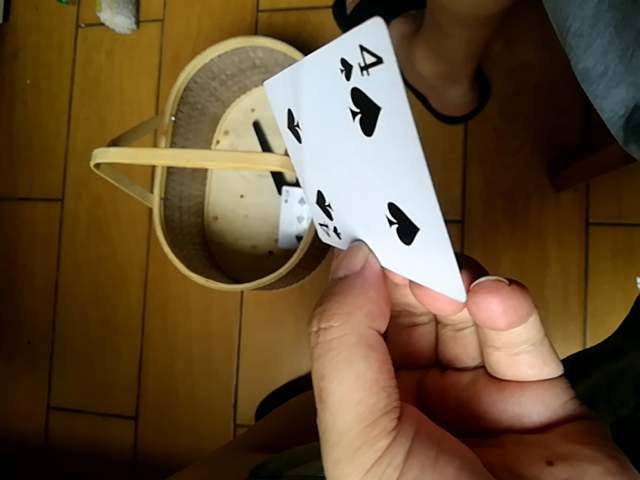ht 4: (261, 21, 461, 308)
